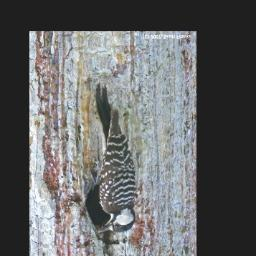Woodpecker: (93, 84, 140, 237)
